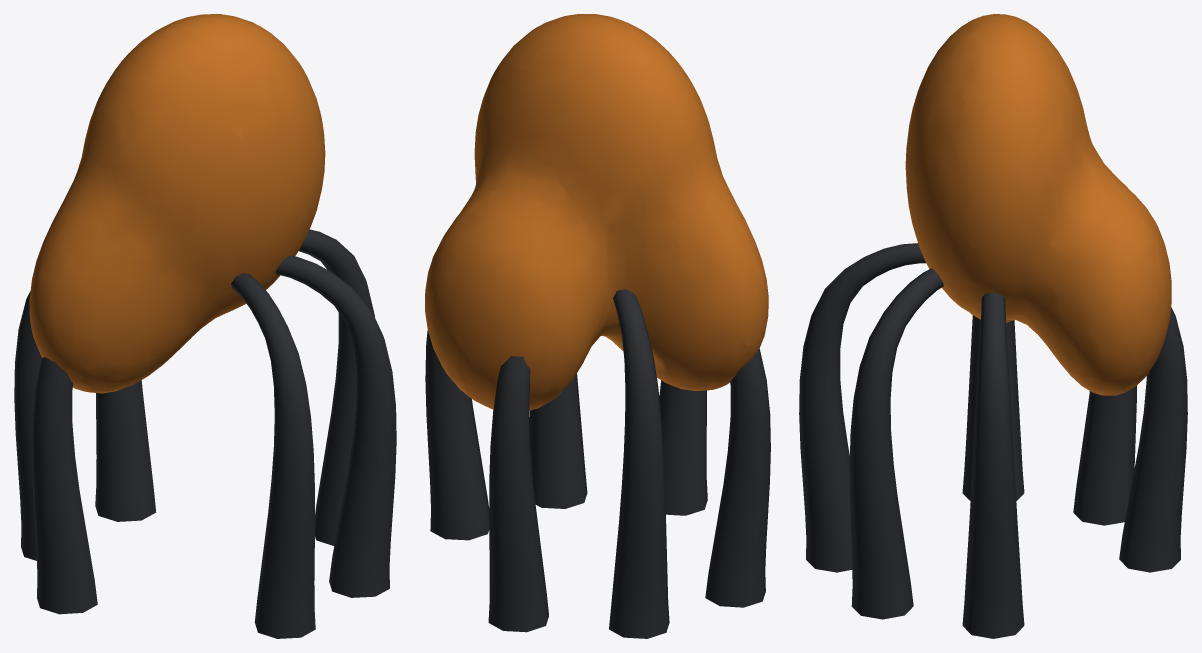
Rendered from cc0-tree-blob-lod0.glb.
3 views of the same model, side by side, from view 1: azimuth 30°, elevation 25°; view 2: azimuth 150°, elevation 25°; view 3: azimuth 270°, elevation 25° (orthographic).
Visible parts, largest first — view 1: part_0; view 2: part_0; view 3: part_0.
Boxes of the visible parts, <box> form: part_0: <box>14,14,396,638</box>; part_0: <box>425,14,770,638</box>; part_0: <box>799,14,1187,638</box>.
Bounding box in the file's own units: 3.86 × 5.88 × 3.86.
1 material, 1 textured.
